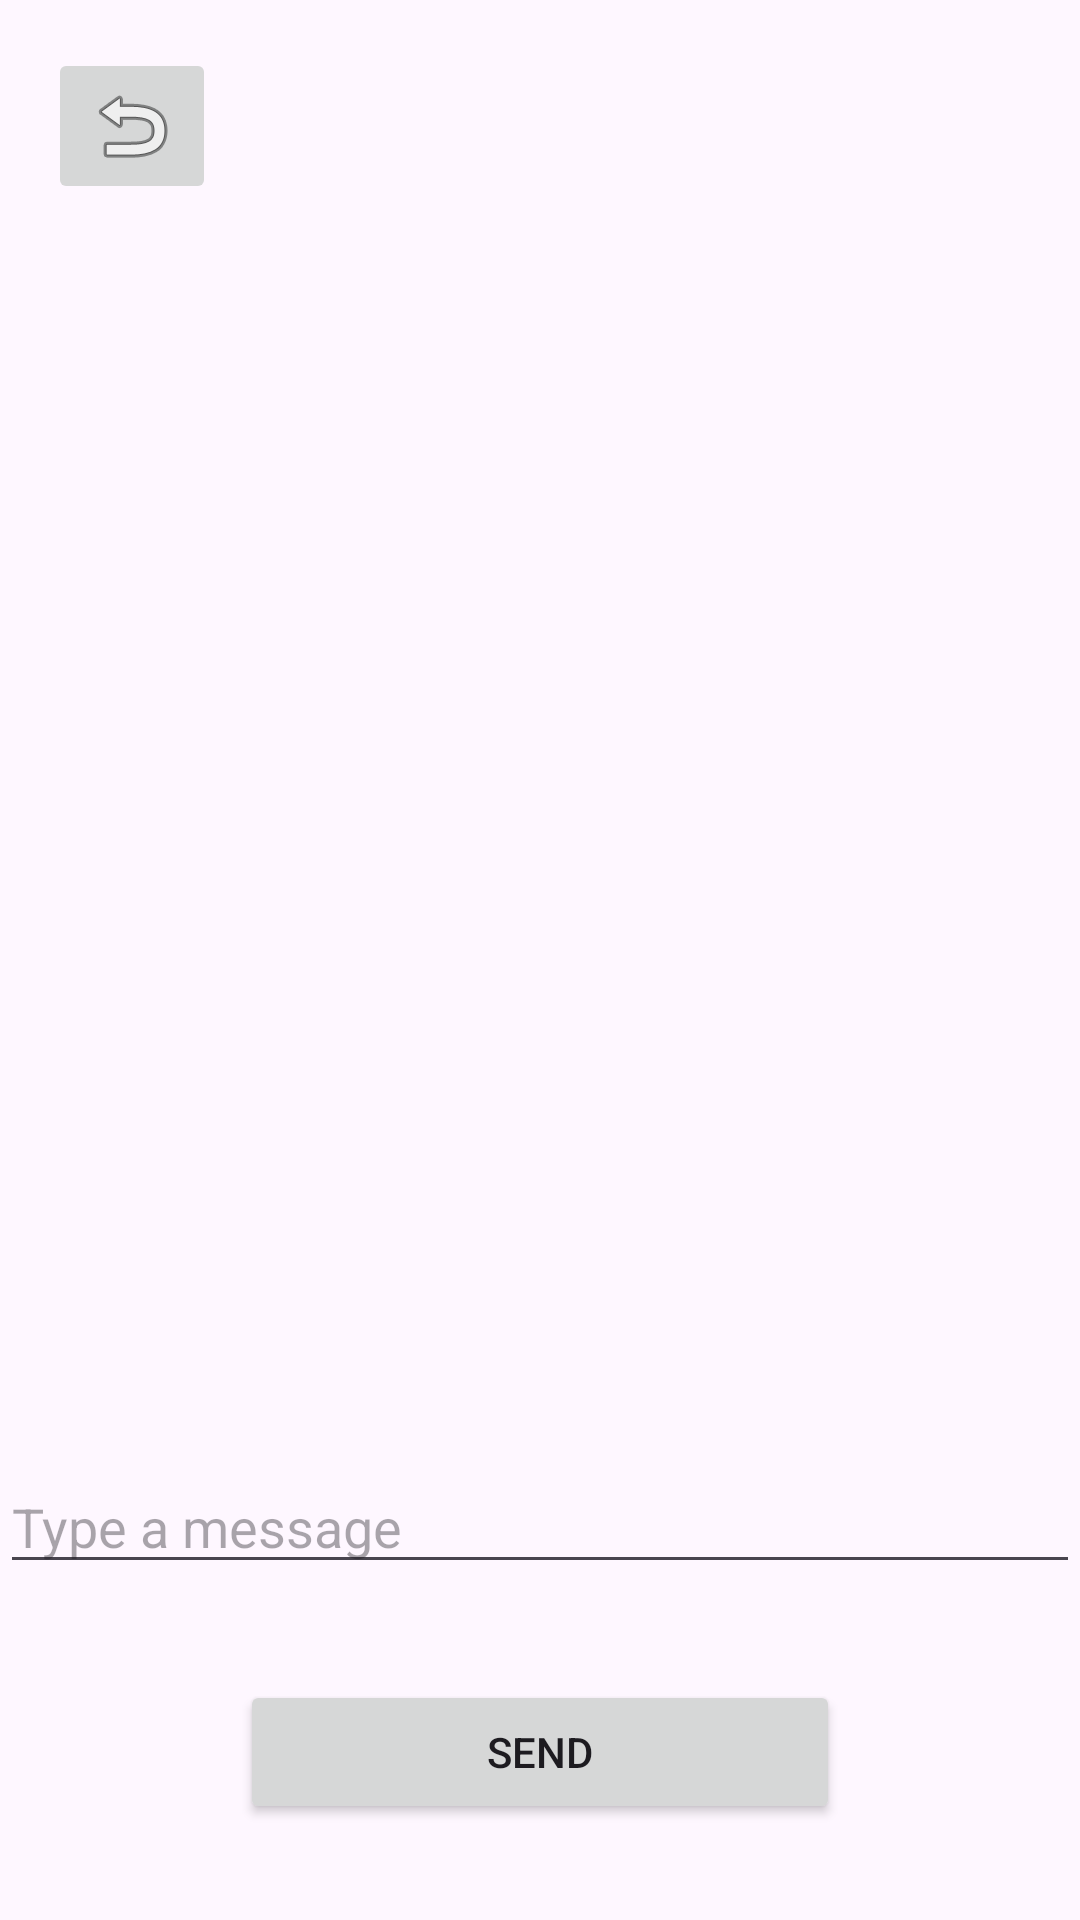

Icon bounding boxes for this 1080w x 1920h phone screenshot, format (x1, y1, x2, y2):
revert: (60, 66, 204, 186)
